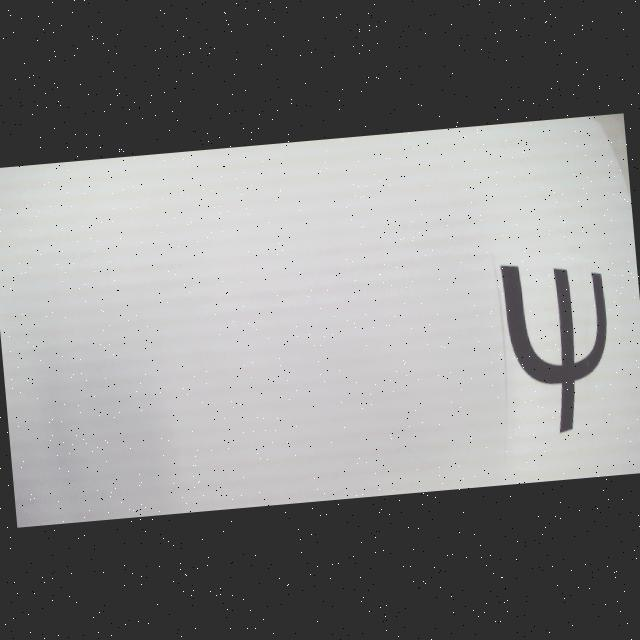PSI: (499, 254, 616, 437)
